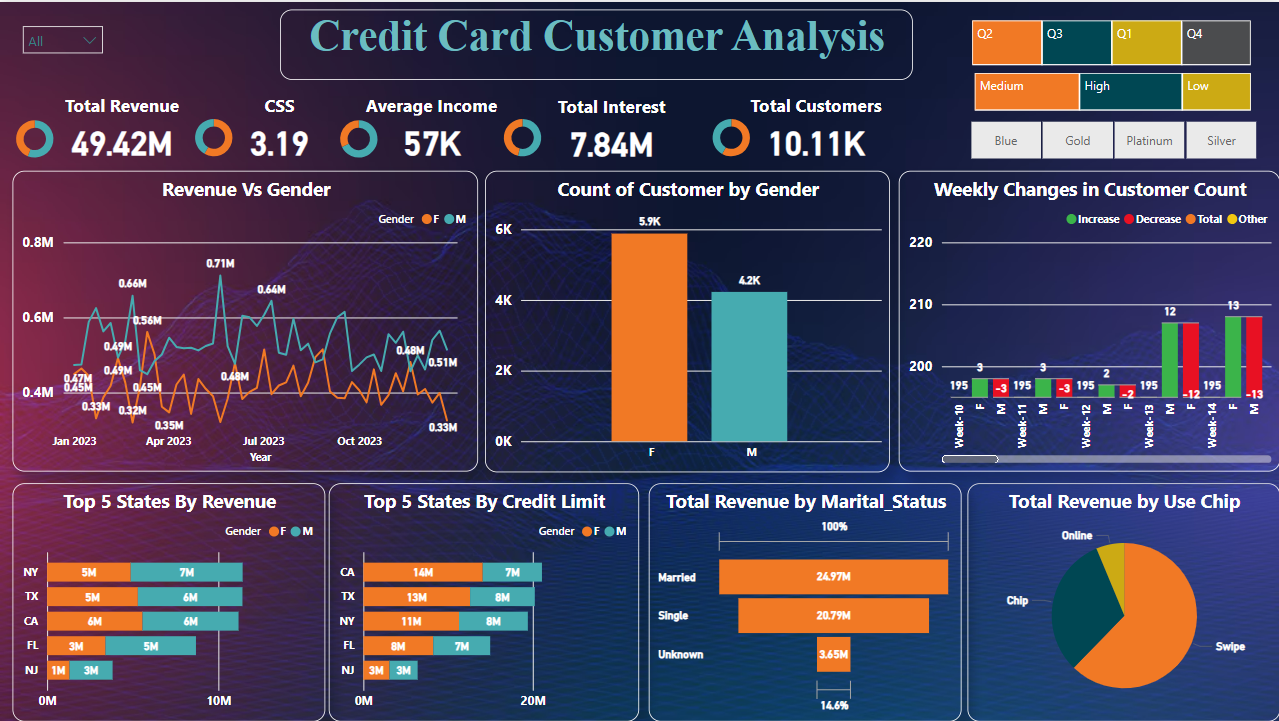

The page's visual inventory and layout, read from the dashboard file:
{"tool":"powerbi","page":{"name":"Customer_Credit_Card","canvas":[1280,720],"ordinal":2},"visuals":[{"type":"textbox","box":[280,7.5,632.5,70],"z":0},{"type":"card","title":"Total Revenue","fields":{"Values":["Quick Measures.Total Revenue"]},"box":[56.7,90.7,131.5,73.6],"z":1000},{"type":"card","title":"Total Customers","fields":{"Values":["Count(customer.Client_Num)"]},"box":[740.8,90.7,149.6,73.6],"z":2000},{"type":"card","title":"CSS","fields":{"Values":["Avg(customer.Cust_Satisfaction_Score)"]},"box":[200.3,90.7,159.3,73.6],"z":3000},{"type":"card","title":"Average Income","fields":{"Values":["Avg(customer.Income)"]},"box":[355.9,90.7,150.8,73.6],"z":4000},{"type":"card","title":"Total Interest","fields":{"Values":["Sum(credit_card.Interest_Earned)"]},"box":[535.7,91.9,150.8,73.6],"z":5000},{"type":"donutChart","fields":{"Category":["customer.Gender"],"Y":["Quick Measures.Total Revenue"]},"box":[0,108.8,70,56.7],"z":6000},{"type":"donutChart","fields":{"Category":["customer.Gender"],"Y":["Sum(customer.Cust_Satisfaction_Score)"]},"box":[168.9,107.6,90.5,56.7],"z":7000},{"type":"lineChart","title":"Revenue Vs Gender","fields":{"Y":["Quick Measures.Total Revenue"],"Category":["credit_card.Week_Start_Date.Variation.Date Hierarchy.Year","credit_card.Week_Start_Date.Variation.Date Hierarchy.Quarter","credit_card.Week_Start_Date.Variation.Date Hierarchy.Month","credit_card.Week_Start_Date.Variation.Date Hierarchy.Day"],"Series":["customer.Gender"]},"box":[12.2,168.8,465.9,300.8],"z":8000},{"type":"barChart","title":"Top 5 States By Revenue","fields":{"Category":["customer.state_cd"],"Series":["customer.Gender"],"Y":["Quick Measures.Total Revenue"]},"box":[12.3,481.6,312.9,238.8],"z":9000},{"type":"barChart","title":"Top 5 States By Credit Limit","fields":{"Series":["customer.Gender"],"Y":["Sum(credit_card.Credit_Limit)"],"Category":["customer.state_cd"]},"box":[329.3,481.6,310.1,238.8],"z":10000},{"type":"funnel","fields":{"Category":["customer.Marital_Status"],"Y":["Quick Measures.Total Revenue"]},"box":[649.1,481.6,312.9,238.8],"z":11000},{"type":"pieChart","fields":{"Category":["credit_card.Use Chip"],"Y":["Quick Measures.Total Revenue"]},"box":[967.4,481.6,312.9,238.8],"z":12000},{"type":"clusteredColumnChart","title":"Count of Customer by Gender","fields":{"Category":["customer.Gender"],"Y":["CountNonNull(customer.Client_Num)"]},"box":[484.4,168.8,404.8,301.9],"z":13000},{"type":"waterfallChart","title":"Weekly Changes in Customer Count","fields":{"Category":["credit_card.Week_Num"],"Y":["CountNonNull(customer.Client_Num)"],"Breakdown":["customer.Gender"]},"box":[898.8,168.9,381.2,300.4],"z":14000},{"type":"donutChart","fields":{"Category":["customer.Gender"],"Y":["Sum(credit_card.Interest_Earned)"]},"box":[477.8,107.6,90.5,56.7],"z":15000},{"type":"donutChart","fields":{"Category":["customer.Gender"],"Y":["Avg(customer.Income)"]},"box":[313.7,108.8,90.5,56.7],"z":16000},{"type":"donutChart","fields":{"Category":["customer.Gender"],"Y":["Count(customer.Client_Num)"]},"box":[686.5,107.6,90.5,56.7],"z":17000},{"type":"slicer","fields":{"Values":["credit_card.Card_Category"]},"box":[944.6,112.2,335.4,50.7],"z":18000},{"type":"treemap","fields":{"Group":["customer.Income Category"],"Values":["Sum(customer.Income)"]},"box":[970,66.4,285.9,47.1],"z":19000},{"type":"treemap","fields":{"Group":["credit_card.Qtr"],"Values":["CountNonNull(customer.Client_Num)"]},"box":[967.6,13.3,288.3,54.3],"z":20000},{"type":"slicer","fields":{"Values":["customer.Gender"]},"box":[12.5,13.8,100,121.2],"z":21000}]}

Visuals, with their boxes in screenshot pixels (x1, y1, x2, y2), scaled from the page's 1280x720 canvas onto the 1279x721 screenshot:
textbox: 280:8:912:78
"Total Revenue" card: 57:91:188:165
"Total Customers" card: 740:91:890:165
"CSS" card: 200:91:359:165
"Average Income" card: 356:91:506:165
"Total Interest" card: 535:92:686:166
donutChart - customer.Gender x Quick Measures.Total Revenue: 0:109:70:166
donutChart - customer.Gender x Sum(customer.Cust_Satisfaction_Score): 169:108:259:165
"Revenue Vs Gender" lineChart: 12:169:478:470
"Top 5 States By Revenue" barChart: 12:482:325:720
"Top 5 States By Credit Limit" barChart: 329:482:639:720
funnel - customer.Marital_Status x Quick Measures.Total Revenue: 649:482:961:720
pieChart - credit_card.Use Chip x Quick Measures.Total Revenue: 967:482:1278:720
"Count of Customer by Gender" clusteredColumnChart: 484:169:889:471
"Weekly Changes in Customer Count" waterfallChart: 898:169:1278:470
donutChart - customer.Gender x Sum(credit_card.Interest_Earned): 477:108:568:165
donutChart - customer.Gender x Avg(customer.Income): 313:109:404:166
donutChart - customer.Gender x Count(customer.Client_Num): 686:108:776:165
slicer - credit_card.Card_Category: 944:112:1278:163
treemap - customer.Income Category x Sum(customer.Income): 969:66:1255:114
treemap - credit_card.Qtr x CountNonNull(customer.Client_Num): 967:13:1255:68
slicer - customer.Gender: 12:14:112:135
